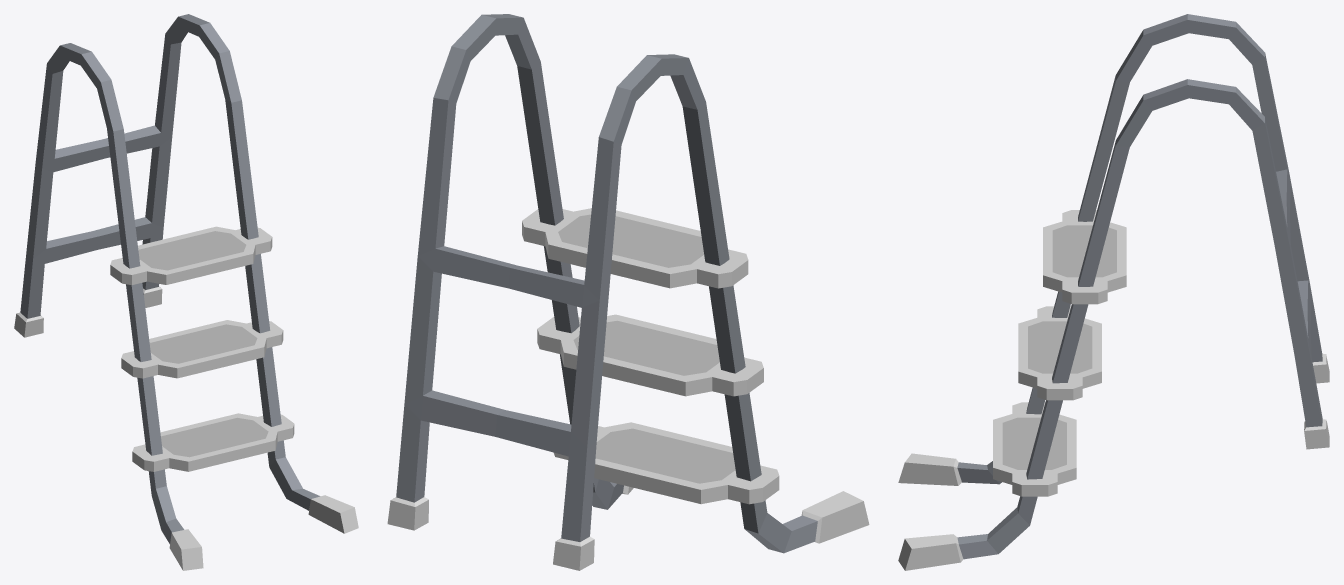
File: SM_Prop_Pool_Ladder_01.fbx
The picture shows the model from 3 angles, left to right: view 1: azimuth 30°, elevation 25°; view 2: azimuth 150°, elevation 25°; view 3: azimuth 270°, elevation 25°; orthographic projection. The views are drawn at different scales.
Visible parts, largest first — view 1: SM_Prop_Pool_Ladder_01; view 2: SM_Prop_Pool_Ladder_01; view 3: SM_Prop_Pool_Ladder_01.
Boxes of the visible parts, box(x1,y1,x2,y2) form: SM_Prop_Pool_Ladder_01: box(14, 14, 358, 570); SM_Prop_Pool_Ladder_01: box(387, 14, 869, 570); SM_Prop_Pool_Ladder_01: box(898, 14, 1329, 570).
Bounding box in the file's own units: 71.38 × 163 × 135.
